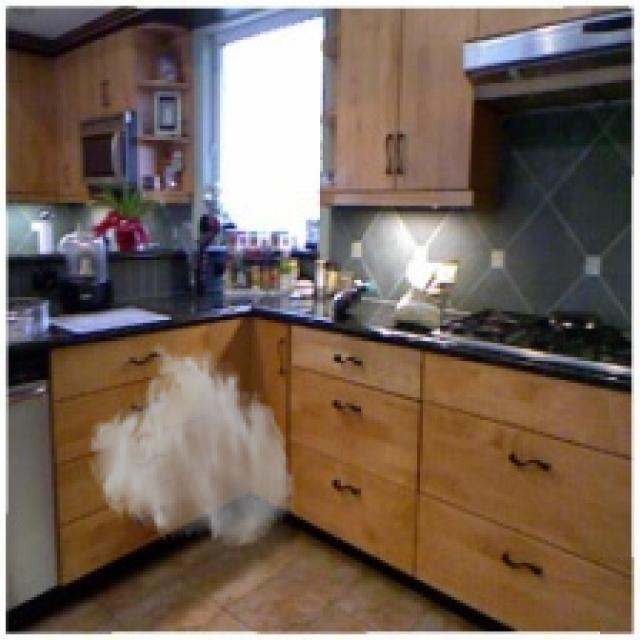Smoke: (85, 339, 298, 552)
